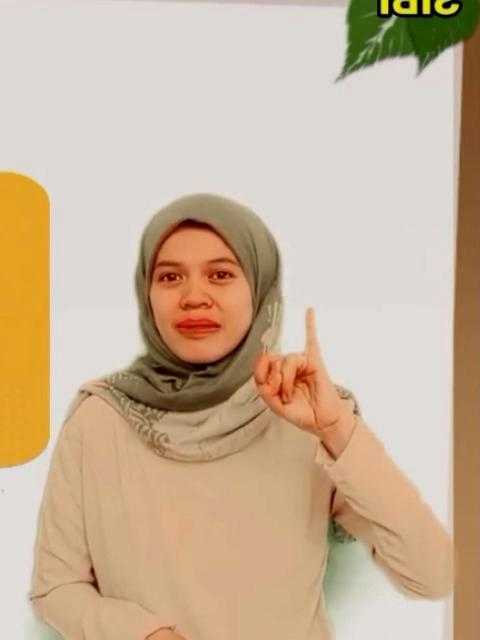I: (253, 306, 343, 429)
